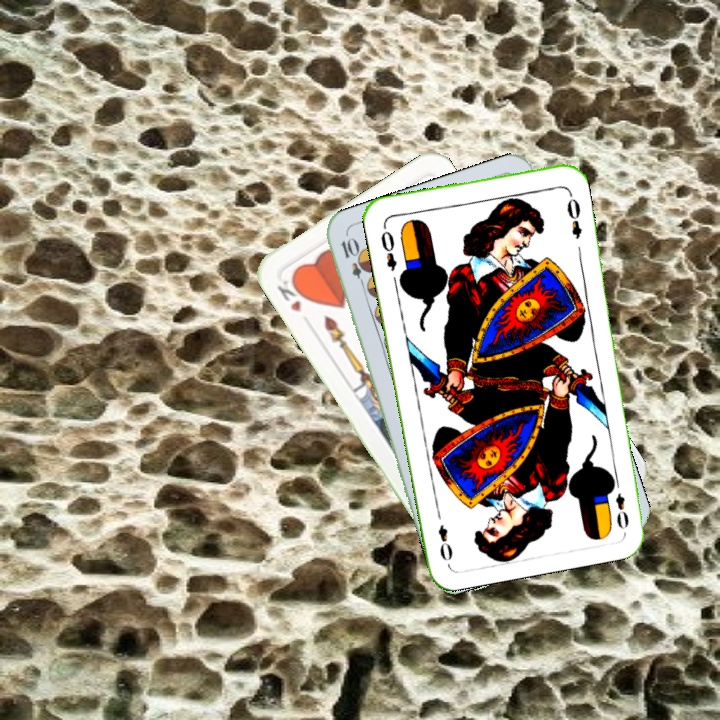E10: (337, 234, 370, 292)
EO: (376, 227, 400, 274), (611, 489, 632, 532)
HK: (272, 272, 309, 315)
